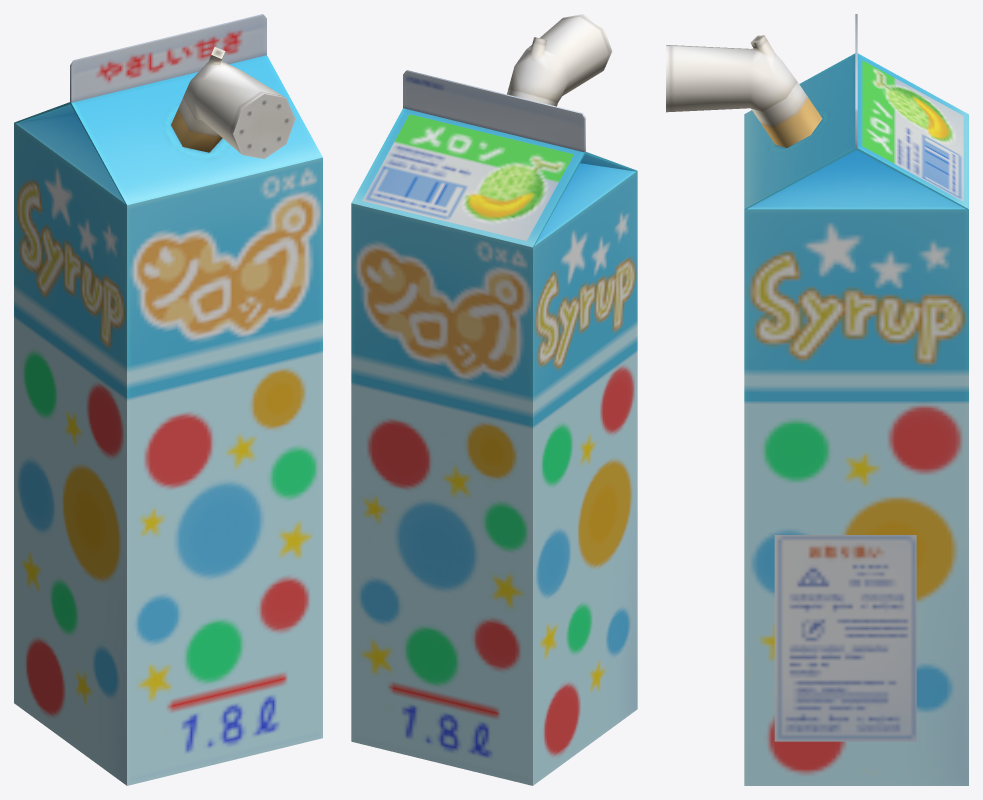
The model's file is jsf_Syrup_03b.fbx.
3 views of the same model, side by side, from view 1: azimuth 30°, elevation 25°; view 2: azimuth 150°, elevation 25°; view 3: azimuth 270°, elevation 25° (orthographic). The views are drawn at different scales.
Parts seen in each view (by area): view 1: jsf_Syrup_03b; view 2: jsf_Syrup_03b; view 3: jsf_Syrup_03b.
Boxes of the visible parts, <box> form: jsf_Syrup_03b: <box>14,14,322,785</box>; jsf_Syrup_03b: <box>351,14,637,785</box>; jsf_Syrup_03b: <box>666,14,968,785</box>.
Bounding box in the file's own units: 9 × 31.08 × 12.13.
